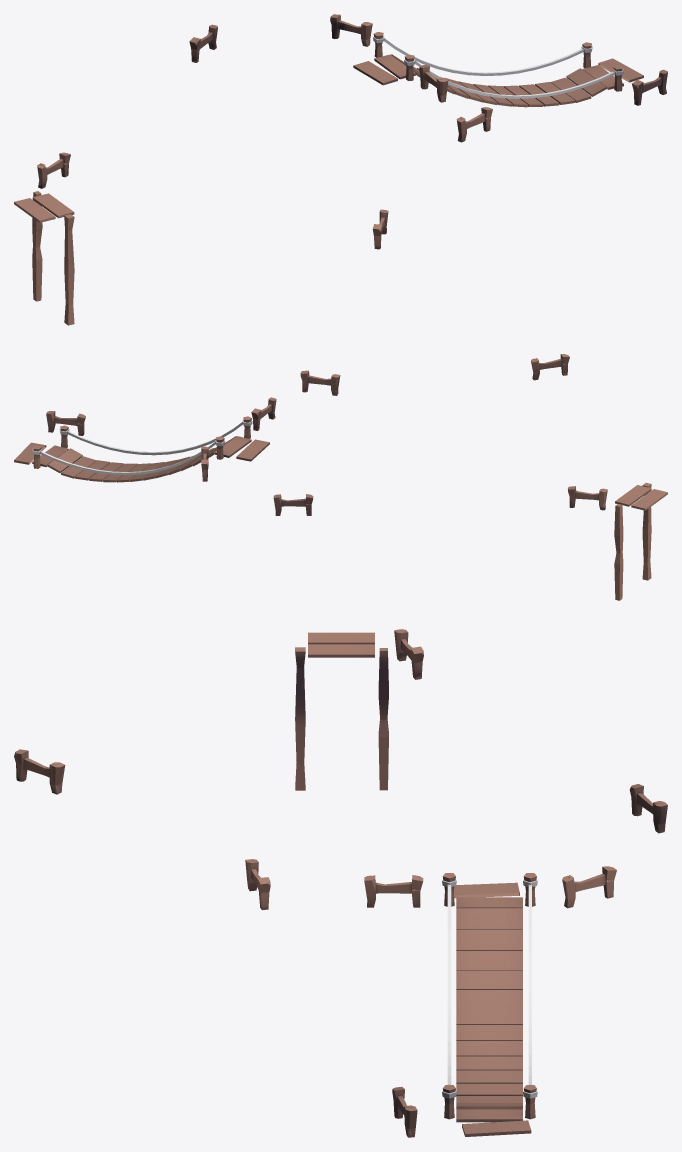
File: Wood_02.FBX
The picture shows the model from 3 angles, top to bottom: view 1: azimuth 30°, elevation 25°; view 2: azimuth 150°, elevation 25°; view 3: azimuth 270°, elevation 25°; orthographic projection. The views are drawn at different scales.
Parts seen in each view (by area): view 1: Wood_02; view 2: Wood_02; view 3: Wood_02.
Part boxes in pixels (box(x1,y1,x2,y2)): Wood_02: box(14, 14, 667, 325); Wood_02: box(14, 354, 667, 600); Wood_02: box(14, 629, 667, 1137).
Size of the model in its own units: 30.03 by 5.48 by 19.6.
